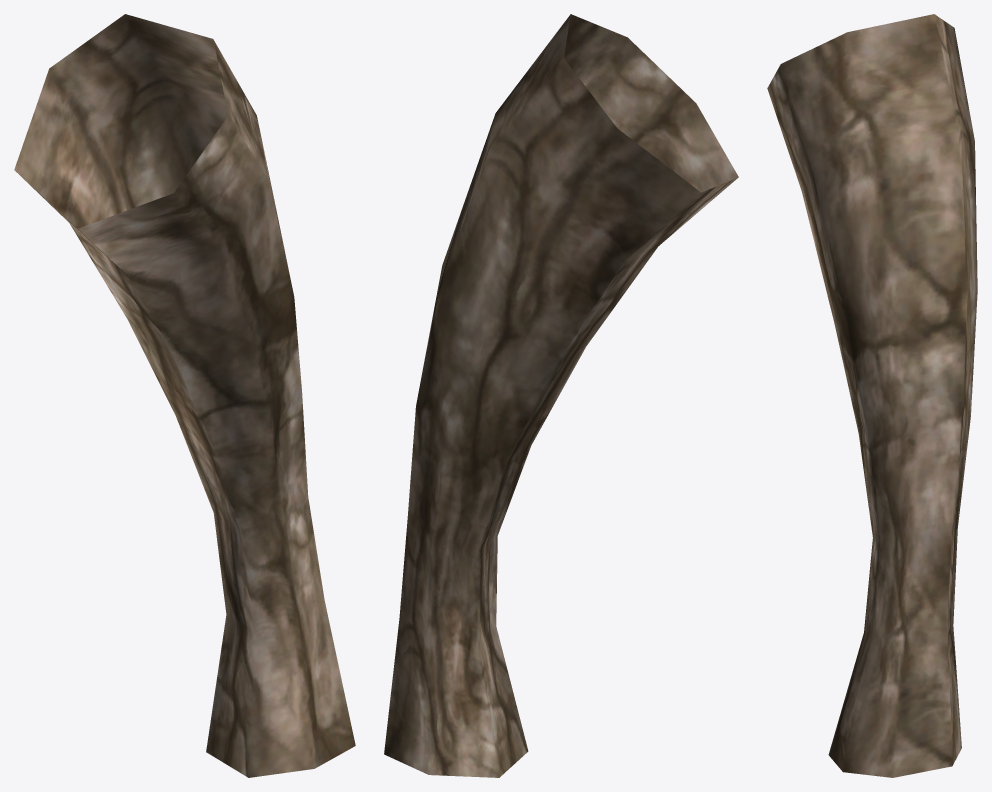
The model's file is EKH_JAIL_PS_JA_GR_CYLINDER22.fbx.
The picture shows the model from 3 angles, left to right: view 1: azimuth 30°, elevation 25°; view 2: azimuth 150°, elevation 25°; view 3: azimuth 270°, elevation 25°; orthographic projection. The views are drawn at different scales.
Parts seen in each view (by area): view 1: EKH_JAIL_PS_JA_GR_CYLINDER22; view 2: EKH_JAIL_PS_JA_GR_CYLINDER22; view 3: EKH_JAIL_PS_JA_GR_CYLINDER22.
Part boxes in pixels (x1,y1,x2,y2): EKH_JAIL_PS_JA_GR_CYLINDER22: (14,14,355,777); EKH_JAIL_PS_JA_GR_CYLINDER22: (384,14,738,777); EKH_JAIL_PS_JA_GR_CYLINDER22: (767,14,977,777).
Size of the model in its own units: 37172 by 82126 by 22758.
Materials: 1 (1 with a texture image).
